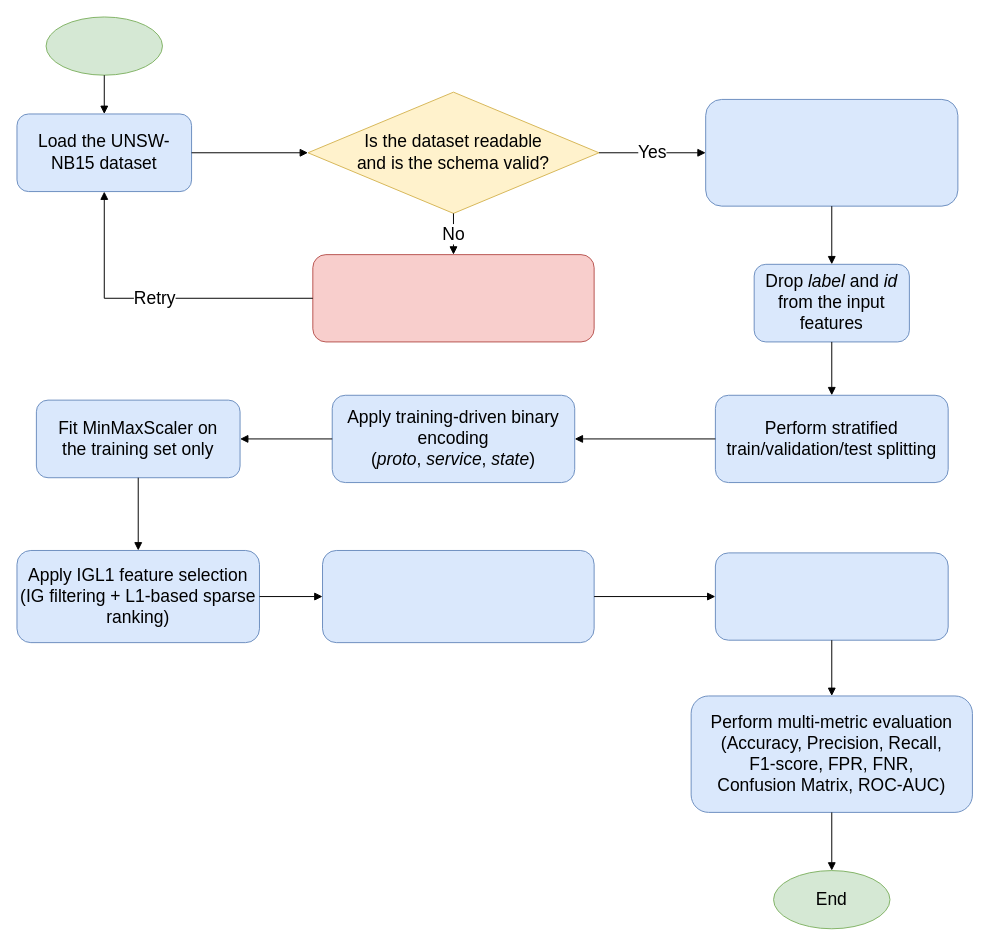
Some shapes in this 989 by 946 pixel diagram are drawn without their labels. The centre of each missing label's shape, as x and y in pixels:
"Evaluate the supporting baseline models (SVM, KNN)" belongs at (x=831, y=596).
"Fallback: verify the file path, data format, and reload the dataset" belongs at (x=453, y=298).
"Remove low-frequency attack classes (Analysis, Backdoor, Shellcode, Worms)" belongs at (x=831, y=152).
"Start" belongs at (x=103, y=45).
"Train the main models (MLP, Gradient Boosting, Random Forest)" belongs at (x=458, y=596).
